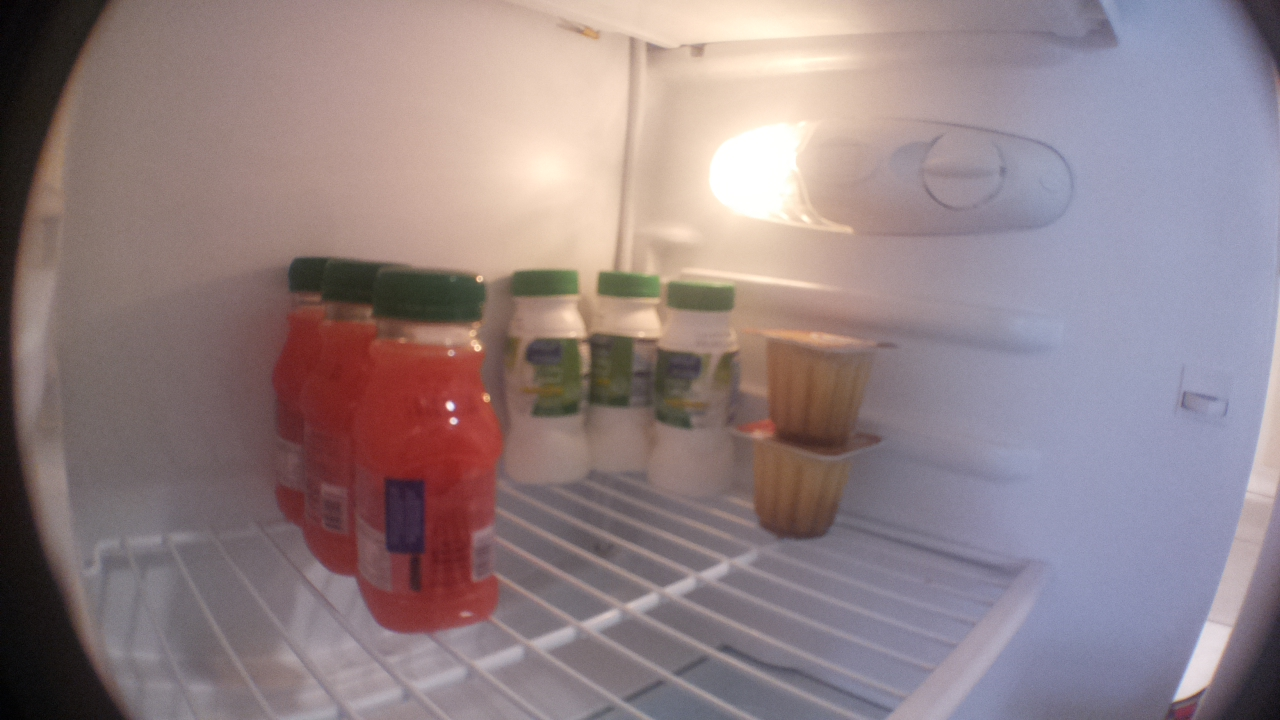caramel: (734, 419, 889, 545), (744, 327, 908, 446)
juice: (351, 269, 507, 638), (301, 261, 380, 595), (266, 256, 327, 536)
laban: (499, 261, 598, 491), (647, 280, 748, 498), (582, 267, 669, 483)
